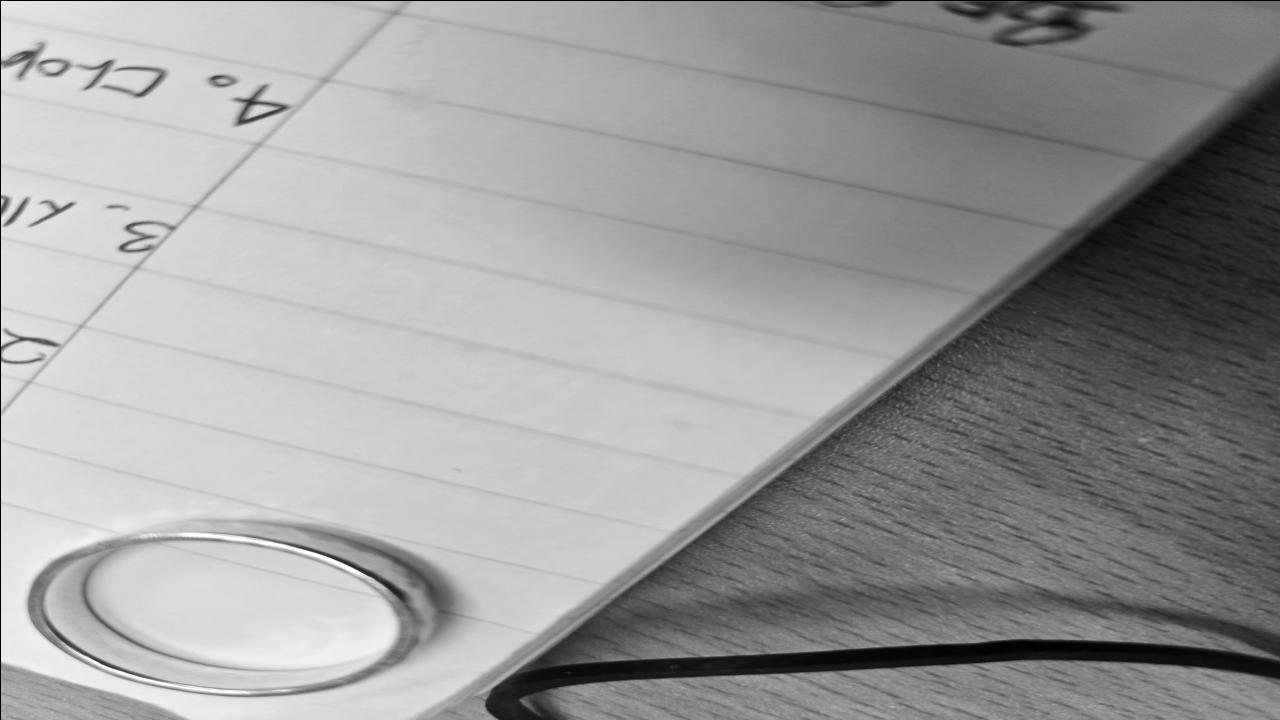ring: (24, 519, 442, 695)
